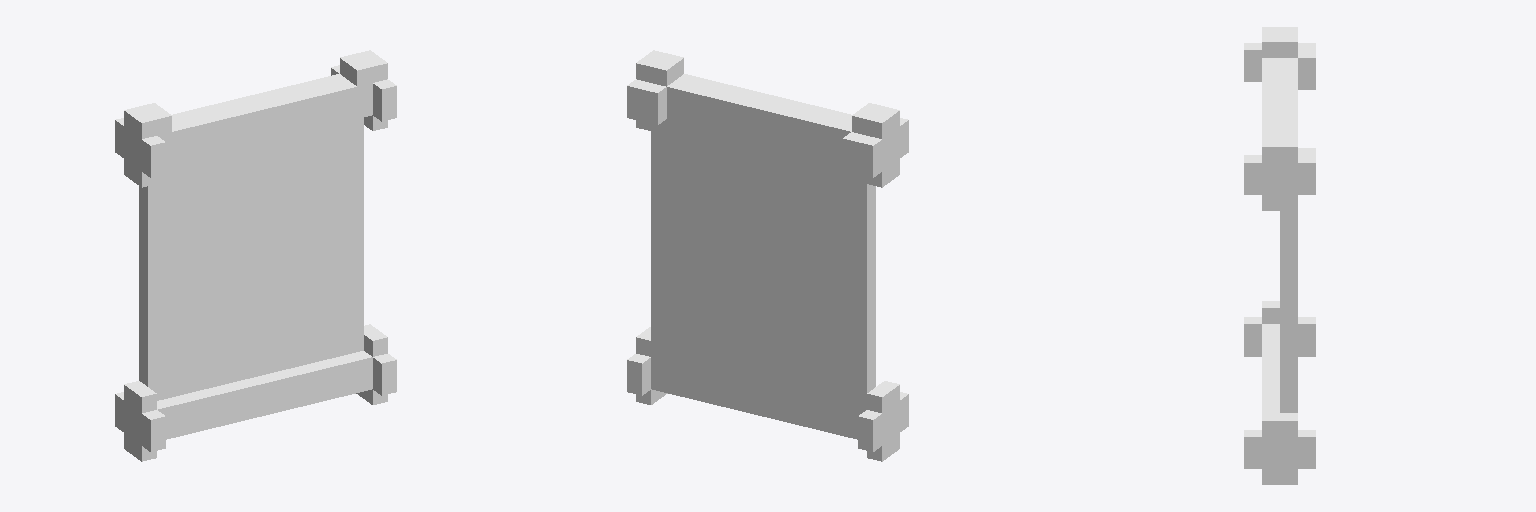
Rendered from stuntDefScroll.obj.
The picture shows the model from 3 angles: view 1: azimuth 30°, elevation 25°; view 2: azimuth 150°, elevation 25°; view 3: azimuth 270°, elevation 25°; orthographic projection.
Visible parts, largest first — view 1: object 1; view 2: object 1; view 3: object 1.
Boxes of the visible parts, box(x1,y1,x2,y2) form: object 1: box(115, 50, 396, 461); object 1: box(627, 50, 908, 461); object 1: box(1244, 27, 1315, 484).
Bounding box in the file's own units: 1.6 × 2.1 × 0.4.